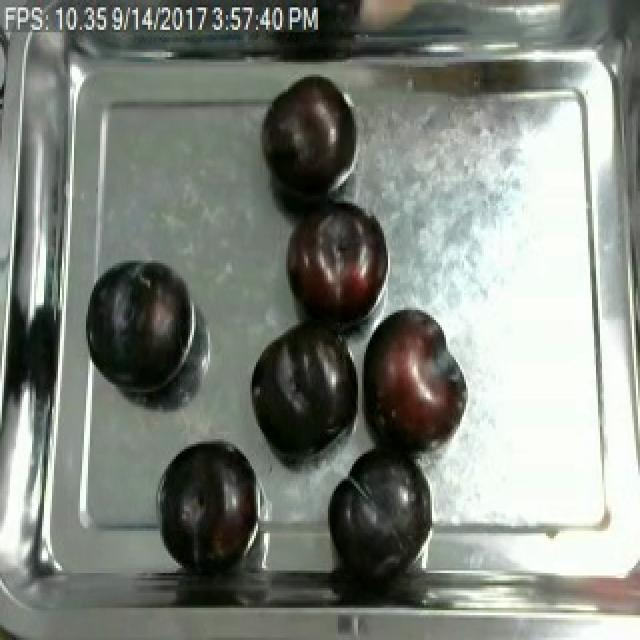Fruit: (356, 303, 476, 462), (242, 308, 362, 467), (320, 437, 440, 583), (80, 256, 196, 400), (152, 432, 266, 570), (282, 194, 390, 332), (262, 74, 354, 194)
